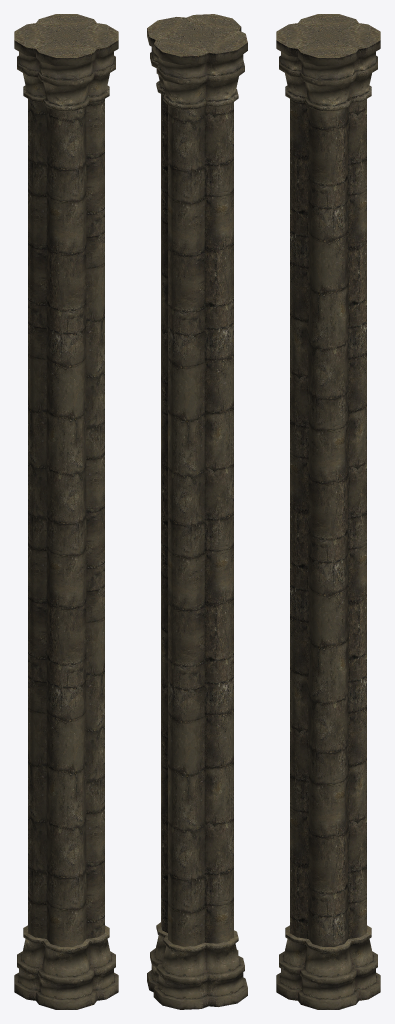
The model's file is NC_pillar_8m.DAE.
The picture shows the model from 3 angles, left to right: view 1: azimuth 90°, elevation 25°; view 2: azimuth 150°, elevation 25°; view 3: azimuth 270°, elevation 25°; orthographic projection.
Parts seen in each view (by area): view 1: NC_pillar_8m; view 2: NC_pillar_8m; view 3: NC_pillar_8m.
Boxes of the visible parts, left/top/right/bottom form: NC_pillar_8m: left=14, top=14, right=118, bottom=1009; NC_pillar_8m: left=147, top=14, right=247, bottom=1009; NC_pillar_8m: left=276, top=14, right=380, bottom=1009.
Size of the model in its own units: 0.7935 by 0.7934 by 8.01.
